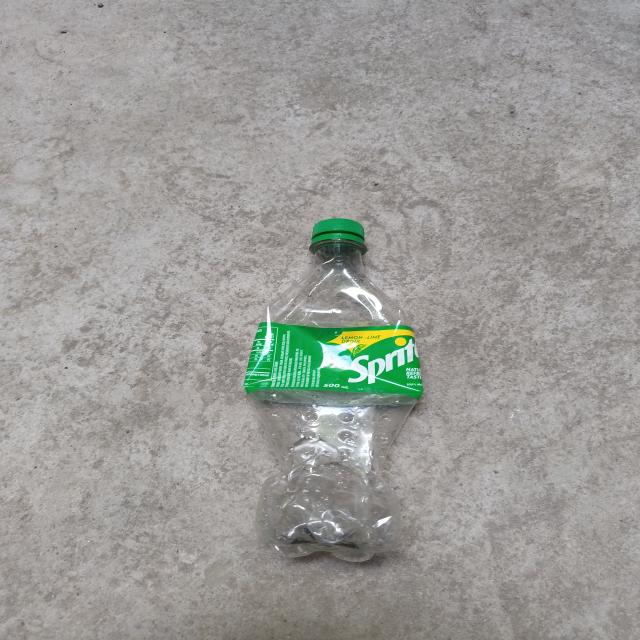Bottle: (244, 218, 423, 563)
